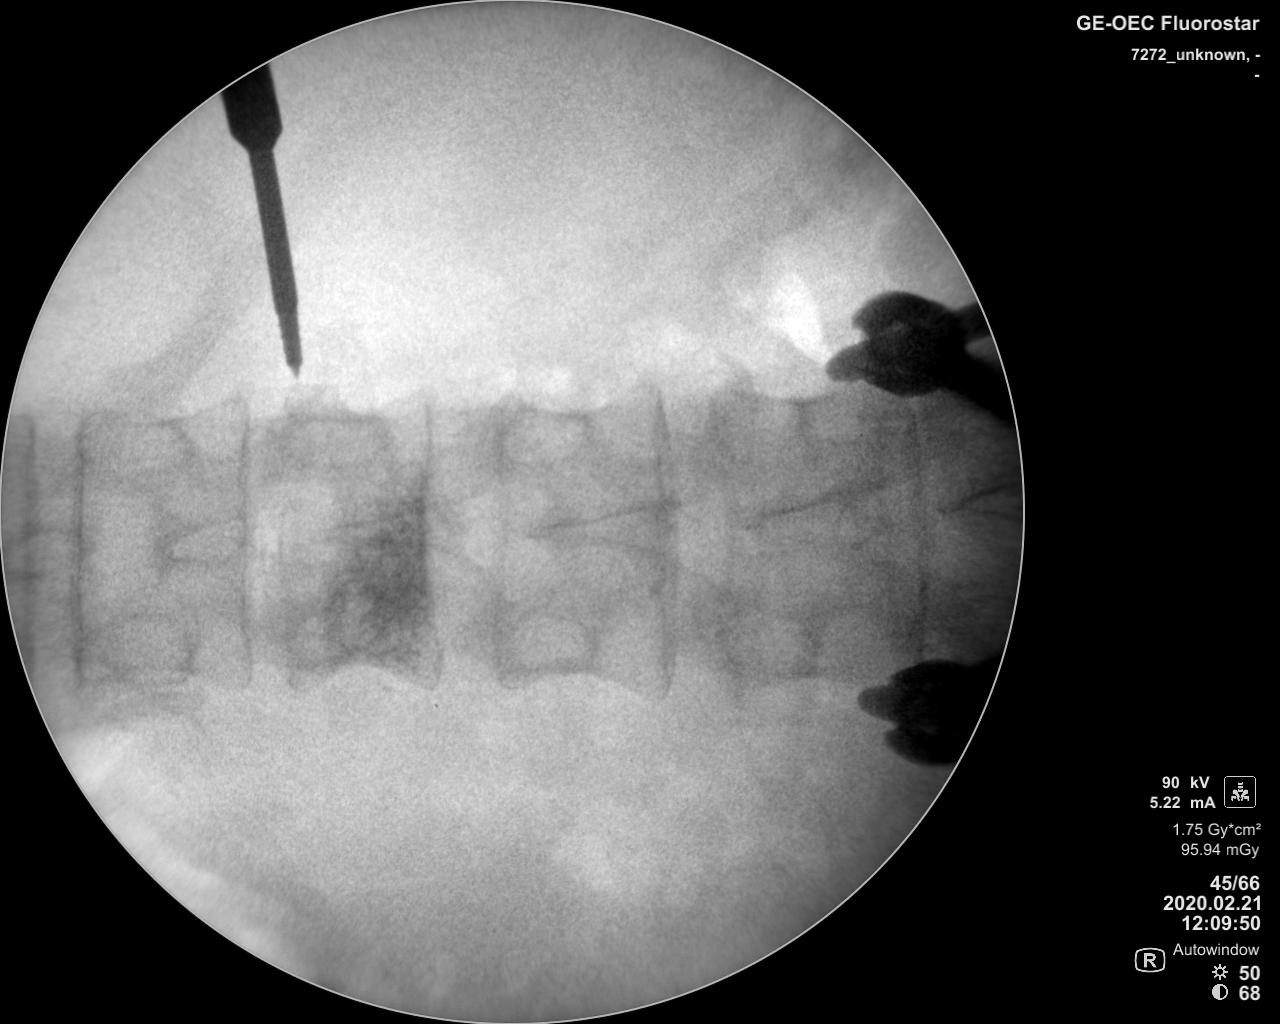eyes: (715, 372, 813, 467), (715, 604, 817, 689), (77, 615, 195, 689), (87, 408, 193, 481), (282, 403, 400, 467), (497, 391, 588, 469), (501, 610, 596, 681)
line: (474, 372, 522, 696), (643, 377, 685, 698), (891, 396, 940, 658), (413, 374, 451, 703), (224, 381, 259, 703), (62, 402, 95, 692), (18, 411, 48, 677)
nose: (518, 501, 700, 561), (736, 492, 897, 548), (328, 503, 478, 554), (150, 511, 250, 569), (4, 528, 96, 578)
